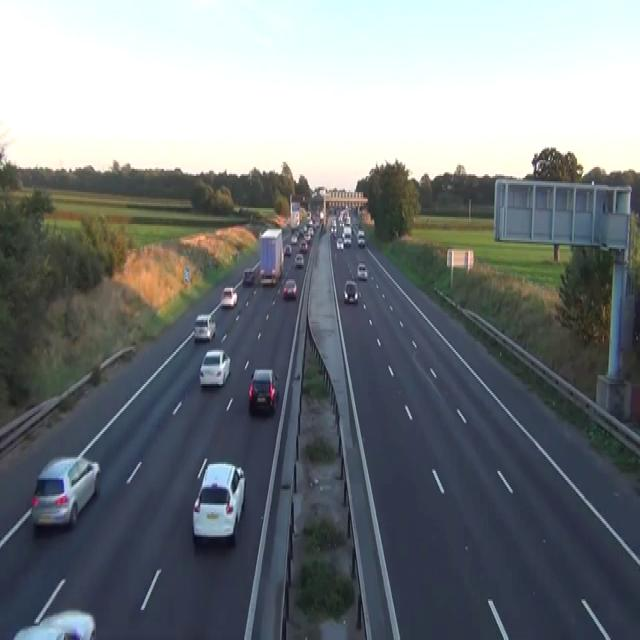Car: (31, 455, 101, 528), (12, 578, 96, 638), (192, 460, 246, 546), (13, 610, 96, 638), (330, 206, 366, 249), (248, 368, 278, 412), (199, 348, 230, 388), (12, 622, 68, 638), (194, 313, 215, 341), (343, 279, 359, 304), (221, 286, 237, 308), (283, 277, 297, 299), (259, 268, 276, 284), (242, 266, 254, 284), (356, 261, 367, 279), (357, 229, 365, 247), (294, 252, 304, 266), (336, 236, 344, 249), (299, 240, 307, 252), (343, 224, 351, 235), (284, 244, 291, 256), (343, 235, 351, 245), (330, 224, 336, 236), (290, 233, 297, 243), (297, 228, 304, 238), (357, 230, 365, 238), (319, 210, 323, 220), (306, 210, 311, 218)
Truck: (259, 228, 283, 284), (290, 199, 300, 228)
